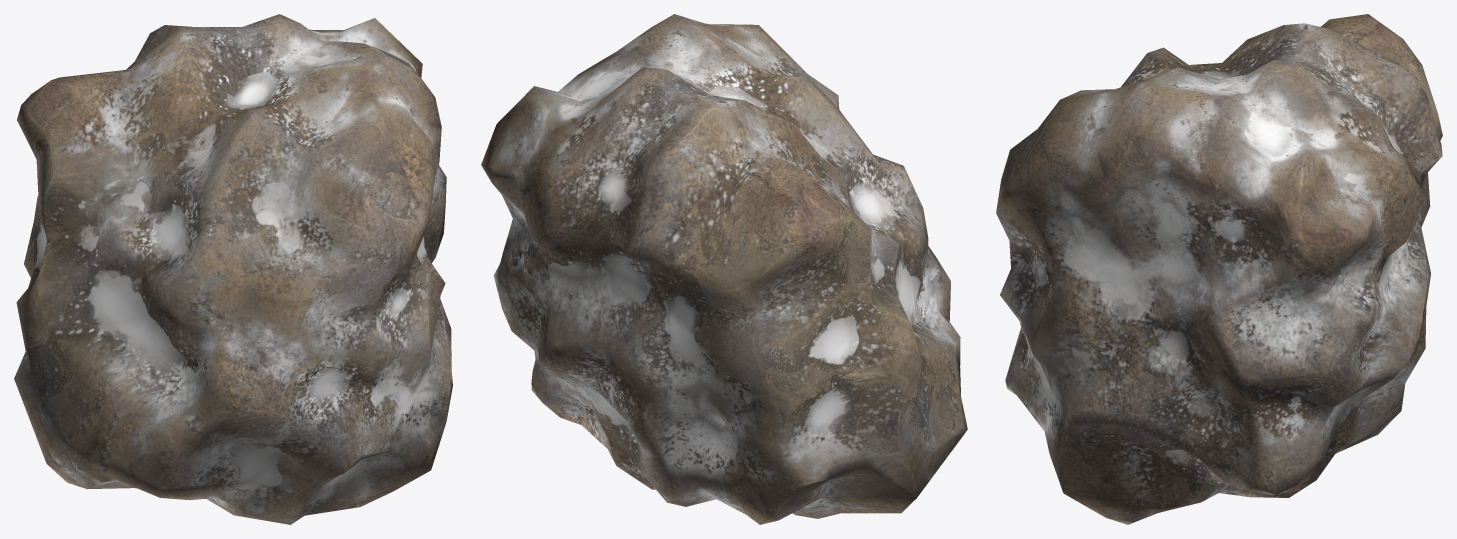
File: SM_MetalNode_6.fbx
3 views of the same model, side by side, from view 1: azimuth 30°, elevation 25°; view 2: azimuth 150°, elevation 25°; view 3: azimuth 270°, elevation 25° (orthographic). The views are drawn at different scales.
Visible parts, largest first — view 1: SM_MetalNode_6_LOD0; view 2: SM_MetalNode_6_LOD0; view 3: SM_MetalNode_6_LOD0.
Boxes of the visible parts, x1,y1,x2,y2 form: SM_MetalNode_6_LOD0: (14,14,452,524); SM_MetalNode_6_LOD0: (481,14,967,524); SM_MetalNode_6_LOD0: (996,14,1442,524).
Size of what is drawn, in the model's own units: 0.888 by 0.9036 by 0.7995.
